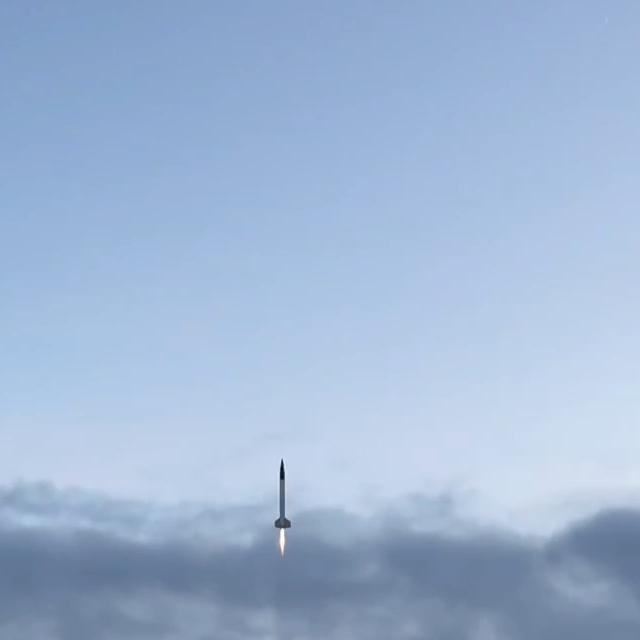rocket: (274, 460, 290, 555)
